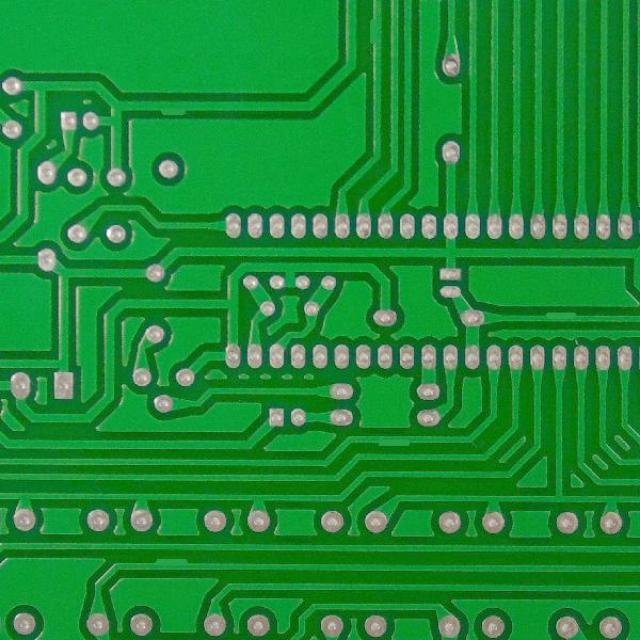Spur: (147, 554, 194, 575), (539, 306, 580, 327), (373, 431, 416, 451), (153, 96, 192, 118), (365, 12, 386, 51)
